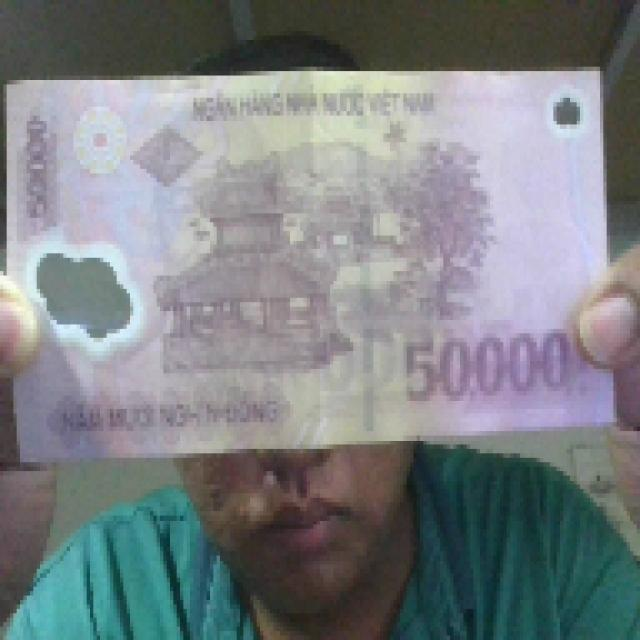50 000 VND: (0, 62, 620, 462)
